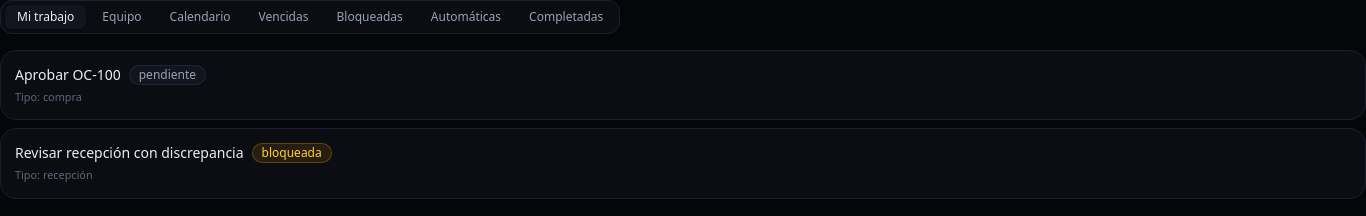
Scenario: TasksBoard › renders real tasks and filters them by view
This screenshot has width=1366, height=216.
Check: the text "Aprobar OC-100" is shown, box [15,65,121,85]
Check: the text "Revisar recepción con discrepancia" is shown, box [15,143,244,163]
"Bloqueadas" shows only the blocked one.
What coordinates should you click on to do the following:
click the tab "Bloqueadas"
I would click on:
 (370, 17)
Its box is [324,5,415,29].
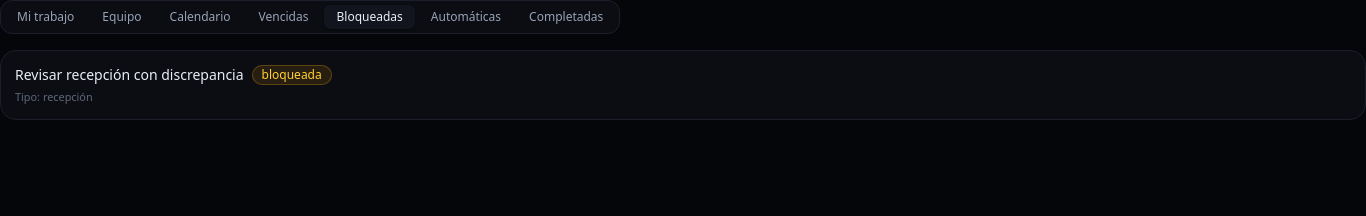
Check: the text "Revisar recepción con discrepancia" is shown, box [15,65,244,85]
Check: the text "Aprobar OC-100" is gone
